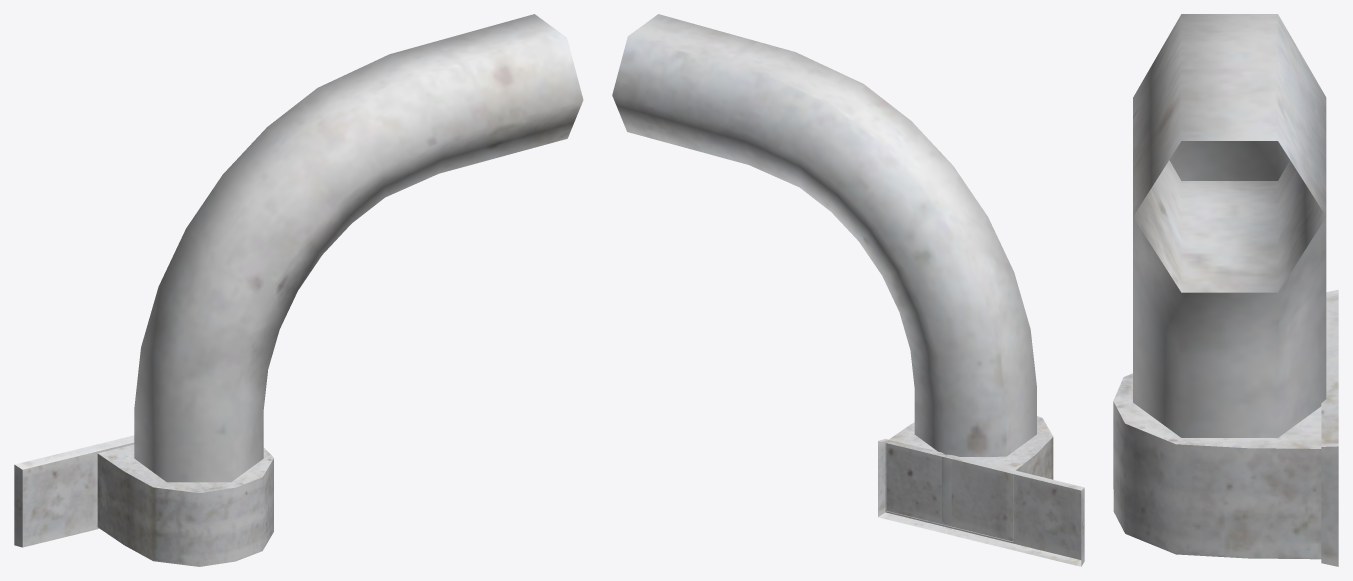
File: SM_Wires_Pipes_01a.glb
3 views of the same model, side by side, from view 1: azimuth 30°, elevation 25°; view 2: azimuth 150°, elevation 25°; view 3: azimuth 270°, elevation 25° (orthographic). The views are drawn at different scales.
Parts seen in each view (by area): view 1: SM_Wires_Pipes_01a; view 2: SM_Wires_Pipes_01a; view 3: SM_Wires_Pipes_01a.
Part boxes in pixels (left/top/right/bottom): SM_Wires_Pipes_01a: left=14, top=14, right=583, bottom=566; SM_Wires_Pipes_01a: left=612, top=14, right=1084, bottom=566; SM_Wires_Pipes_01a: left=1113, top=14, right=1338, bottom=566.
Size of the model in its own units: 0.1407 by 0.114 by 0.0367.
Materials: 1 (1 with a texture image).
